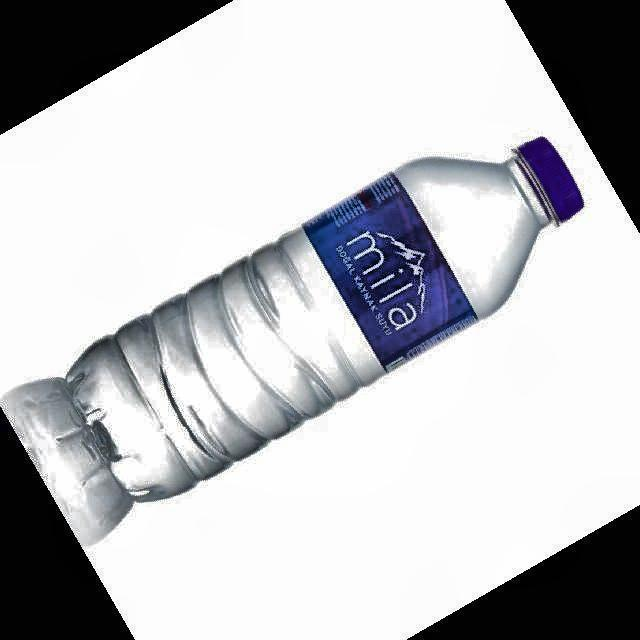plastic: (66, 138, 584, 501)
